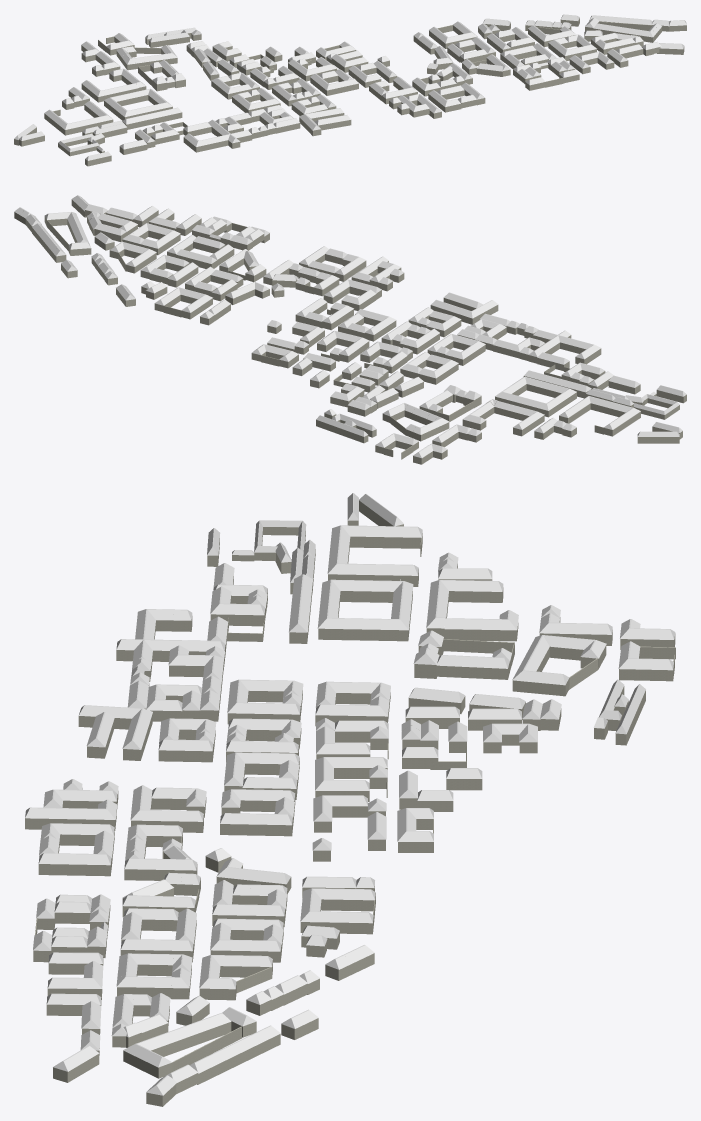
Rendered from WallRoofCity.fbx.
3 renders of one model, top to bottom at view 1: azimuth 30°, elevation 25°; view 2: azimuth 150°, elevation 25°; view 3: azimuth 270°, elevation 25°, orthographic. The views are drawn at different scales.
Size of the model in its own units: 86644 by 2995 by 39338.
